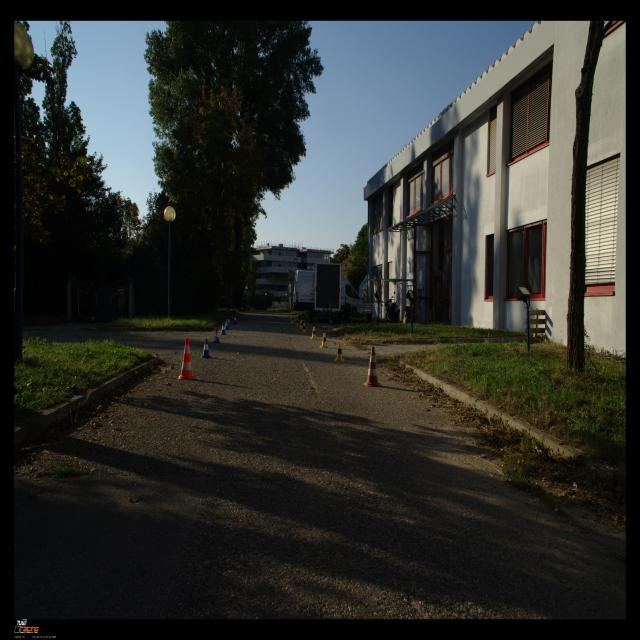blue_cone: (201, 338, 211, 358), (213, 328, 220, 343), (220, 322, 227, 335), (225, 319, 230, 330), (233, 315, 238, 324), (228, 316, 230, 326)
large_orange_cone: (362, 346, 382, 386), (178, 338, 195, 380)
yellow_cone: (335, 343, 344, 362), (320, 333, 328, 348), (310, 327, 318, 339), (301, 323, 307, 333), (290, 315, 295, 324), (295, 317, 299, 326), (299, 320, 303, 329)
